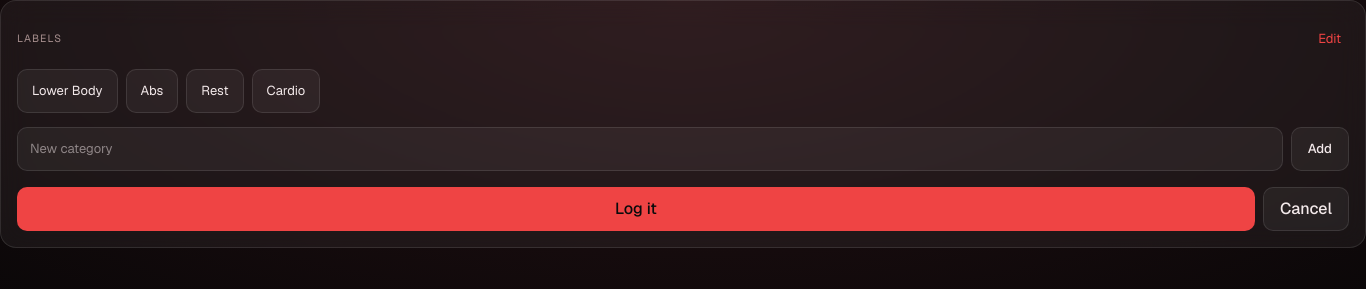
PlannerDaySheet › keeps the sheet open and says so when the save fails
The width and height of the screenshot is (1366, 289).
Click the button "Rest" at x=215, y=91, box [186, 69, 244, 113]
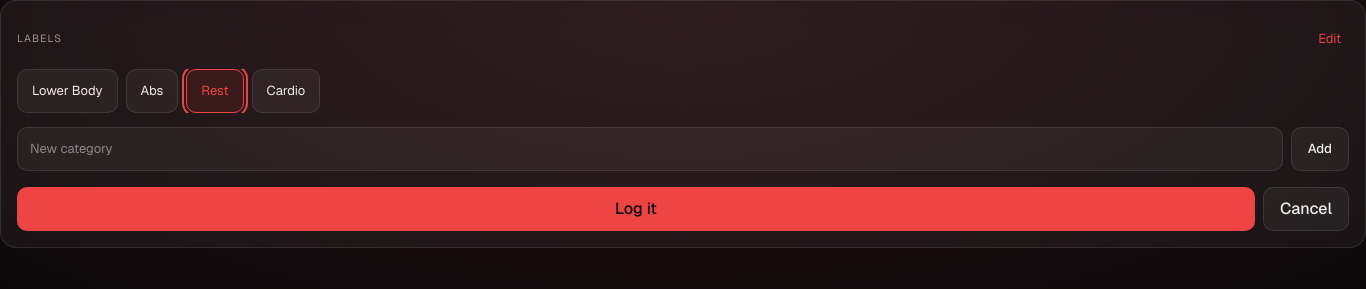
Click the button "Log it" at x=636, y=209, box [17, 187, 1255, 231]
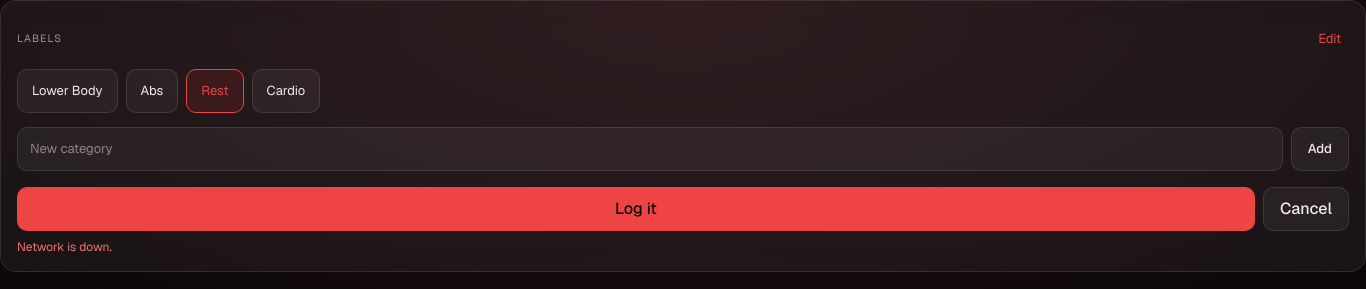
Expected: the text "Network is down." is shown, [17, 239, 112, 255]
